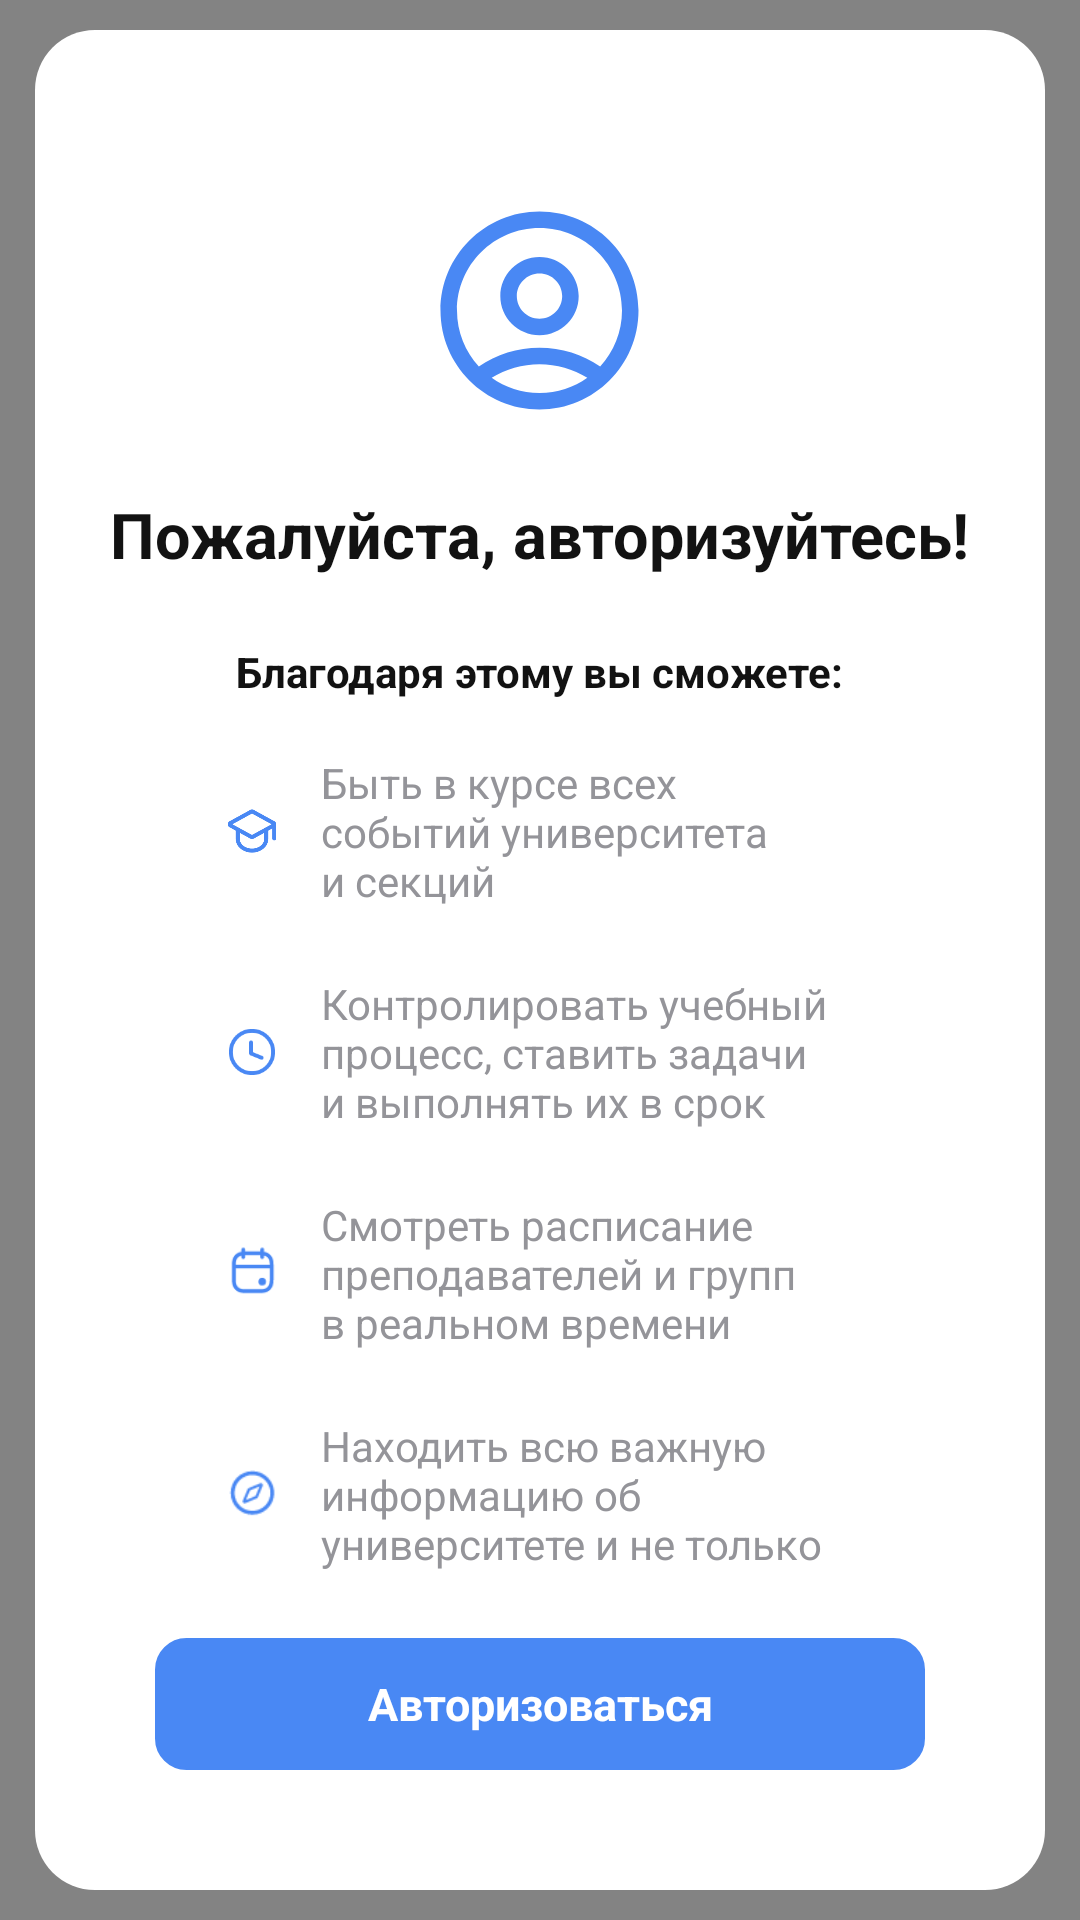

Screen size 1080px×1920px. Icon name, then its center in pixels as point (x, y):
academic cap: point (252, 831)
recent: point (252, 1052)
user encircled: point (539, 310)
